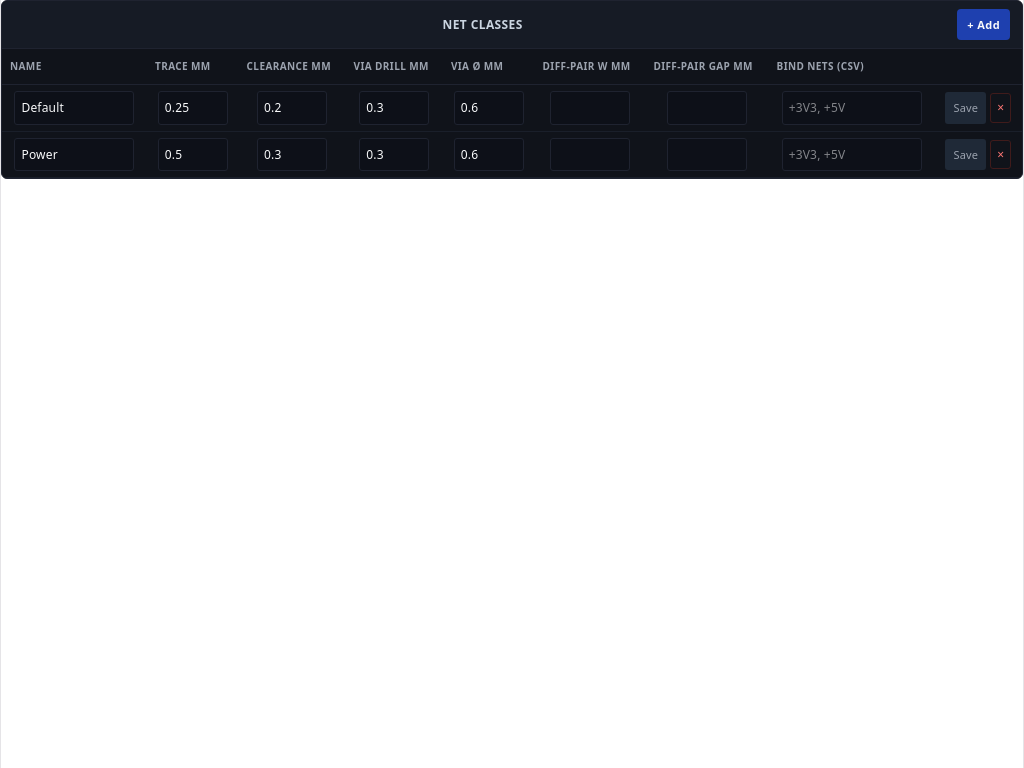
Test: NetClassPanel › Delete POSTs ui_netclass_delete and removes the row on success
Click the 2nd button with test id "netclass-delete": (1001, 154) [990,140,1011,169]
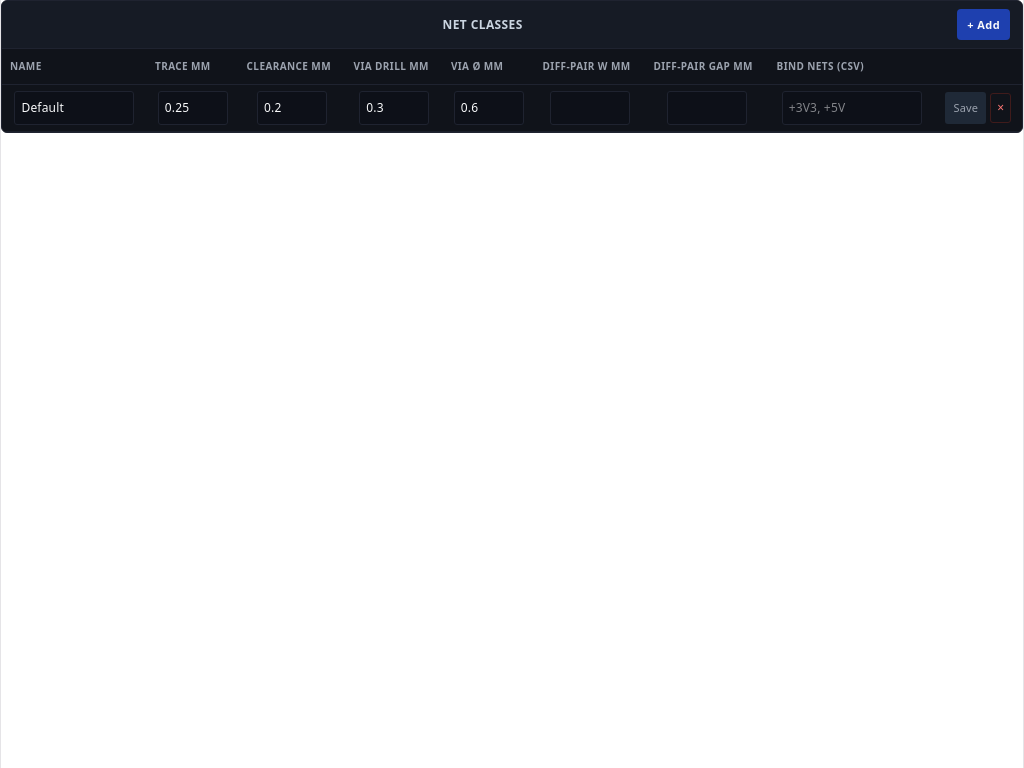
Now the number of rows with test id "netclass-row" is 1, box [2,85,1022,131]
